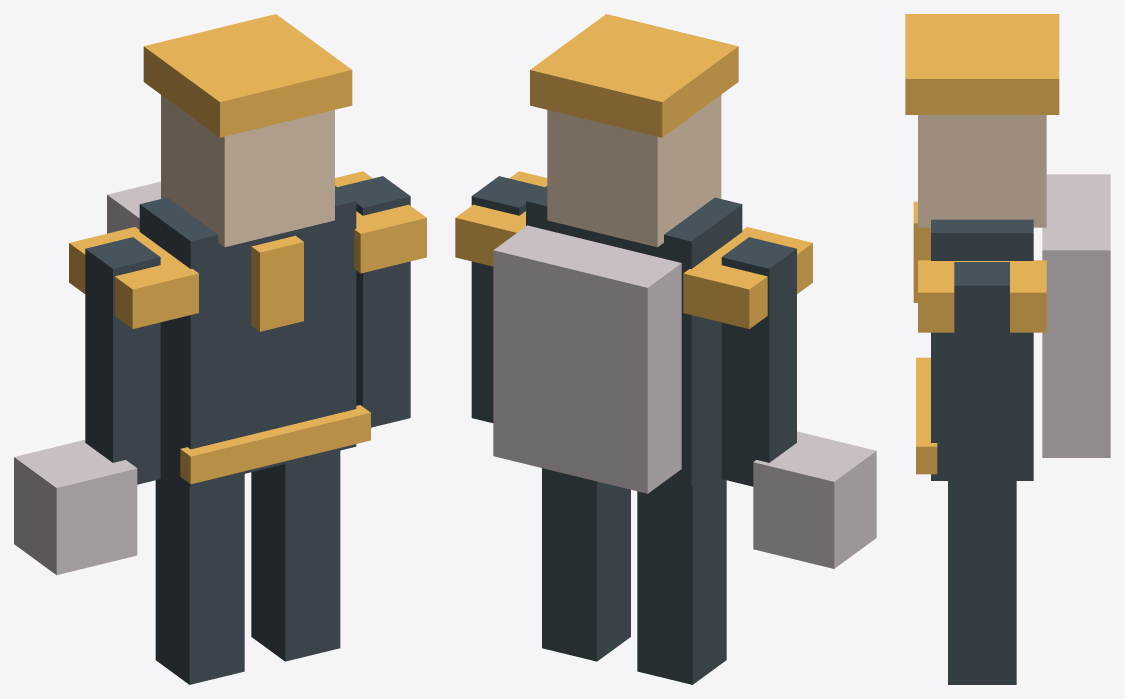
The model's file is 13_quill_signalborn_herald_of_relay.glb.
The picture shows the model from 3 angles, left to right: view 1: azimuth 30°, elevation 25°; view 2: azimuth 150°, elevation 25°; view 3: azimuth 270°, elevation 25°; orthographic projection.
Visible parts, largest first — view 1: Quill Signalborn, Herald of Relay; view 2: Quill Signalborn, Herald of Relay; view 3: Quill Signalborn, Herald of Relay.
Boxes of the visible parts, box(x1,y1,x2,y2) form: Quill Signalborn, Herald of Relay: box(14, 14, 426, 684); Quill Signalborn, Herald of Relay: box(455, 14, 876, 684); Quill Signalborn, Herald of Relay: box(905, 14, 1110, 684).
Size of the model in its own units: 0.9284 by 1.45 by 0.4479.
